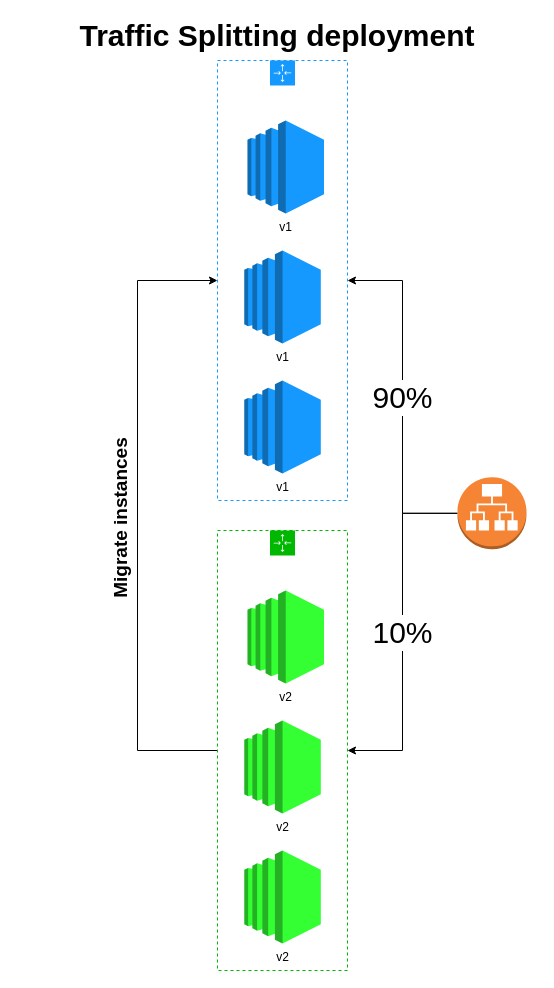
Image size: 554x988. Some labels were removed from this diagram. Each missing label, with the box of its shape:
Main ASG: (216, 60, 348, 500)
Temp ASG: (216, 530, 348, 970)
